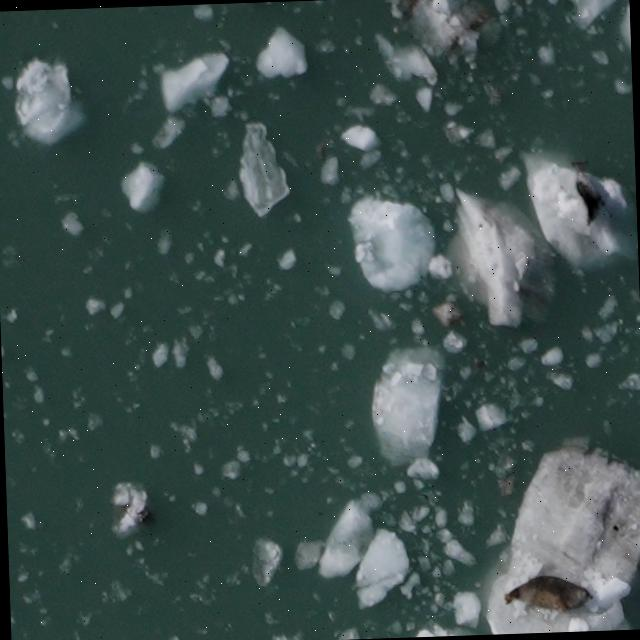seal: (497, 570, 597, 618), (569, 173, 608, 230)
